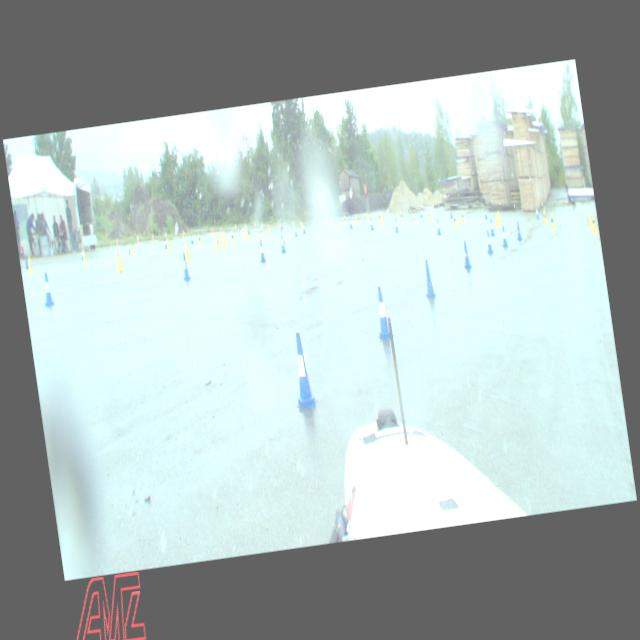blue_cone: (287, 332, 319, 409), (370, 286, 390, 340), (422, 260, 434, 296), (42, 272, 54, 305), (461, 240, 471, 268), (180, 252, 190, 280), (484, 230, 494, 254), (258, 240, 266, 262), (501, 225, 508, 248), (515, 221, 522, 240), (280, 235, 286, 252), (435, 218, 441, 234), (490, 219, 496, 235), (348, 217, 354, 229), (24, 256, 29, 269), (369, 218, 374, 230), (394, 219, 398, 232), (294, 224, 298, 237), (80, 248, 84, 261), (302, 222, 306, 234), (536, 207, 540, 219), (484, 209, 488, 220), (127, 243, 131, 254), (322, 220, 326, 231), (419, 208, 423, 218), (190, 235, 193, 244), (401, 209, 404, 218), (165, 240, 168, 248)
orange_cone: (136, 235, 140, 243), (152, 232, 155, 242), (115, 238, 118, 246), (182, 230, 185, 237)
yellow_cone: (115, 250, 124, 272), (184, 241, 191, 261), (590, 215, 598, 232), (550, 213, 556, 229), (452, 214, 458, 227), (411, 213, 416, 226), (542, 210, 547, 222), (216, 235, 220, 250), (28, 257, 32, 272), (588, 211, 592, 225), (379, 213, 384, 224), (230, 231, 234, 244), (222, 233, 226, 246), (82, 250, 86, 263), (498, 210, 502, 223), (461, 210, 465, 222), (130, 244, 134, 256), (496, 214, 500, 226), (428, 210, 432, 222), (198, 234, 202, 245), (260, 226, 264, 237), (354, 214, 358, 225), (449, 208, 453, 219), (245, 230, 249, 240), (300, 221, 304, 231), (167, 239, 170, 251), (242, 228, 245, 238), (366, 212, 369, 222), (331, 217, 334, 227), (292, 221, 295, 230), (319, 217, 322, 226), (400, 210, 402, 221), (268, 224, 270, 234), (220, 232, 222, 241), (344, 214, 346, 223), (248, 226, 250, 234)
